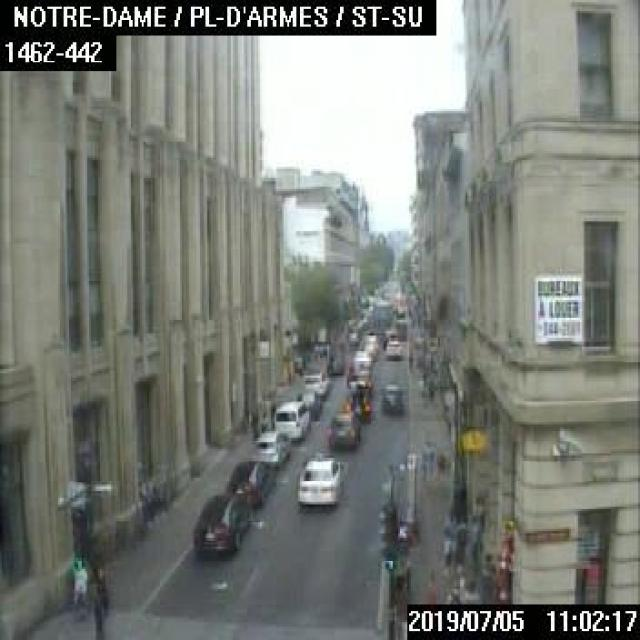pedestrian: (442, 510, 460, 567), (69, 567, 86, 611), (247, 406, 258, 436), (268, 400, 276, 424), (405, 347, 413, 369)
vehicle: (191, 494, 249, 556), (224, 460, 273, 511), (294, 456, 344, 504), (251, 431, 292, 473), (326, 406, 360, 453), (344, 380, 376, 421), (275, 401, 310, 437), (295, 388, 324, 416), (301, 370, 330, 398), (382, 382, 402, 413), (385, 338, 401, 358)
